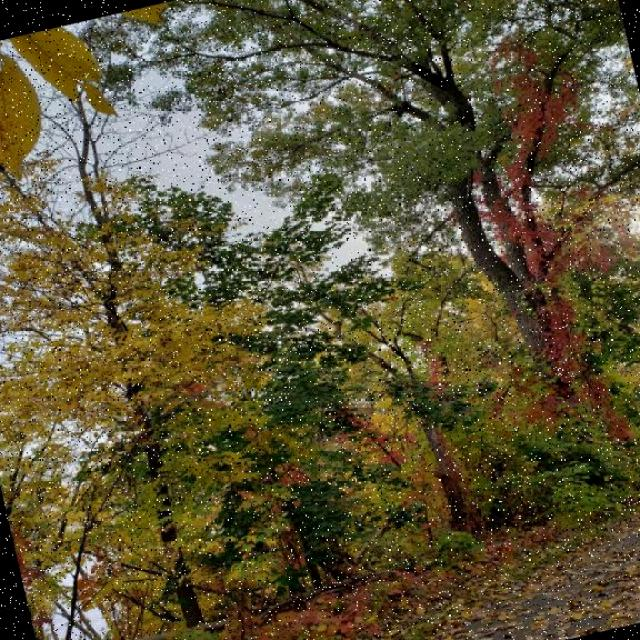fallen_object: (99, 502, 544, 640)
